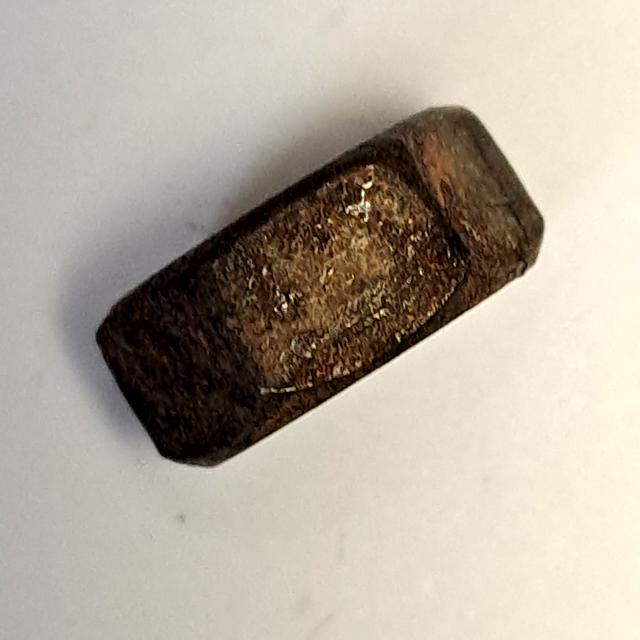Side_Rust: (83, 89, 553, 486)
